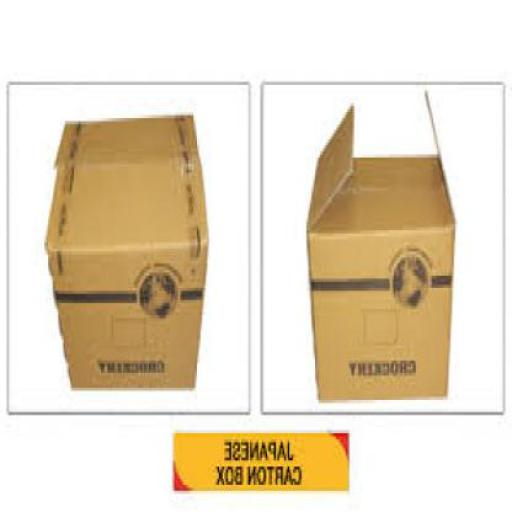cardboard: (310, 87, 459, 400), (48, 112, 212, 390)
